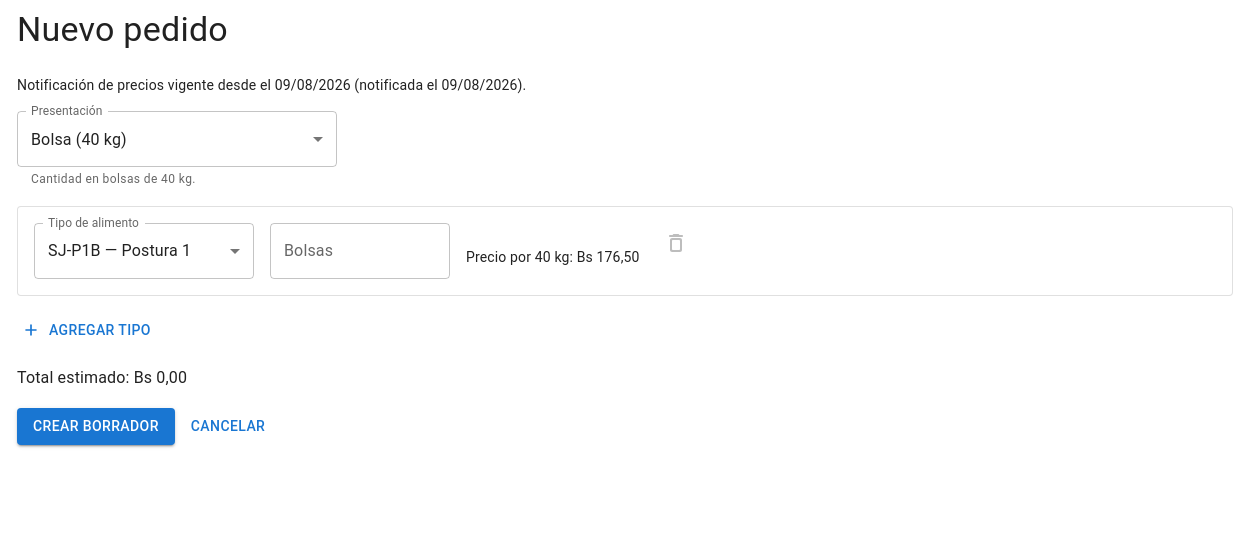
Test: PedidoFormularioPage › muestra la notificación vigente y el código de cada tipo en el combo
Check: the text "vigente desde el 09/08/2026 (notificada el 09/08/2026)" is shown, box left=17, top=77, right=526, bottom=93
Click the dropdown named "Tipo de alimento".
click(120, 251)  # box left=48, top=241, right=191, bottom=260
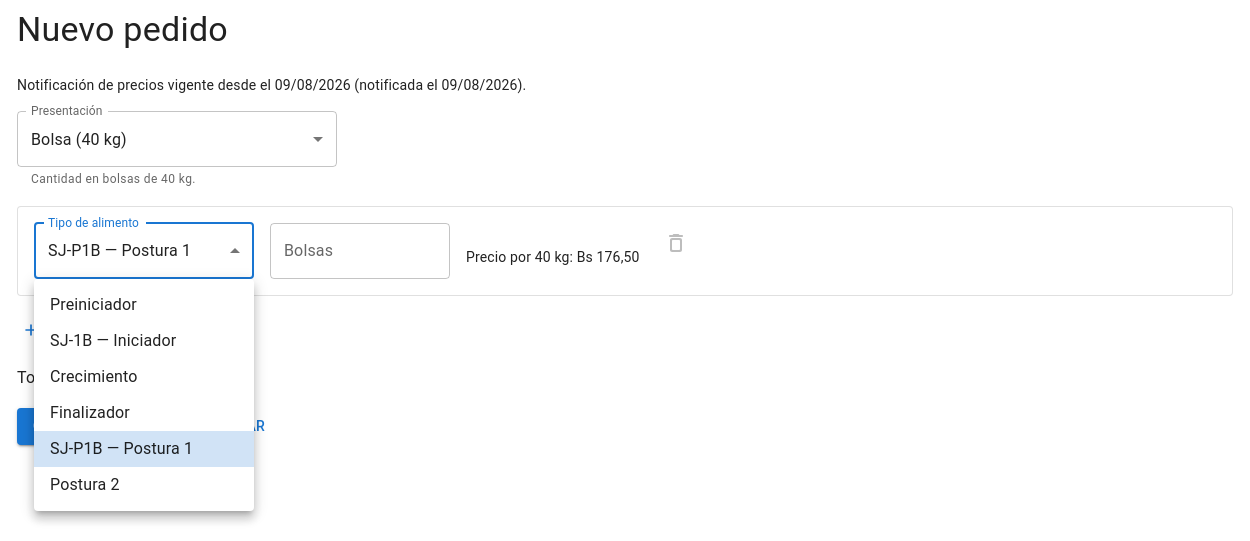
Check: the option "SJ-P1B — Postura 1" is shown, box left=34, top=431, right=254, bottom=467
Check: the option "SJ-1B — Iniciador" is shown, box left=50, top=331, right=176, bottom=350
